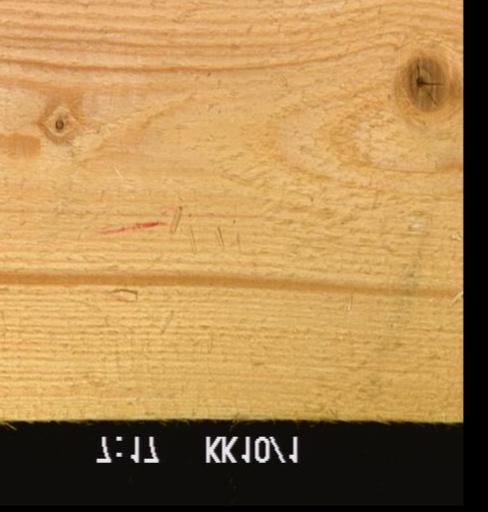dry_knot: (50, 117, 67, 131)
sound_knot: (399, 53, 448, 114)
